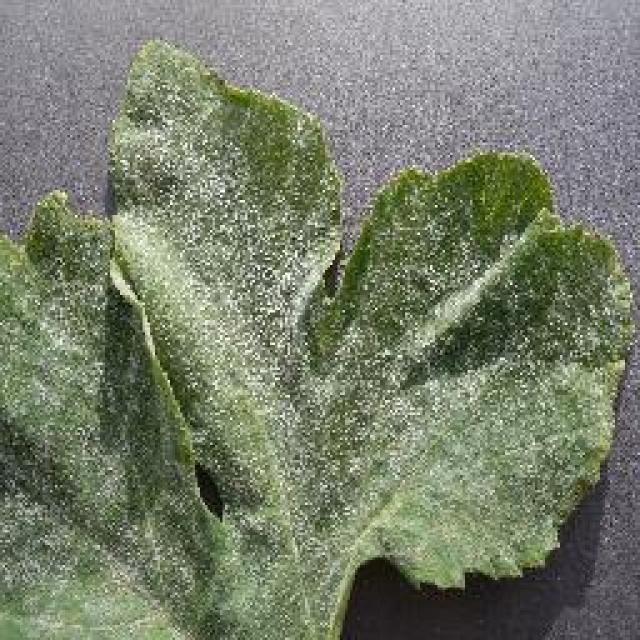Squ_Powdery_mildew: (35, 184, 512, 573)
